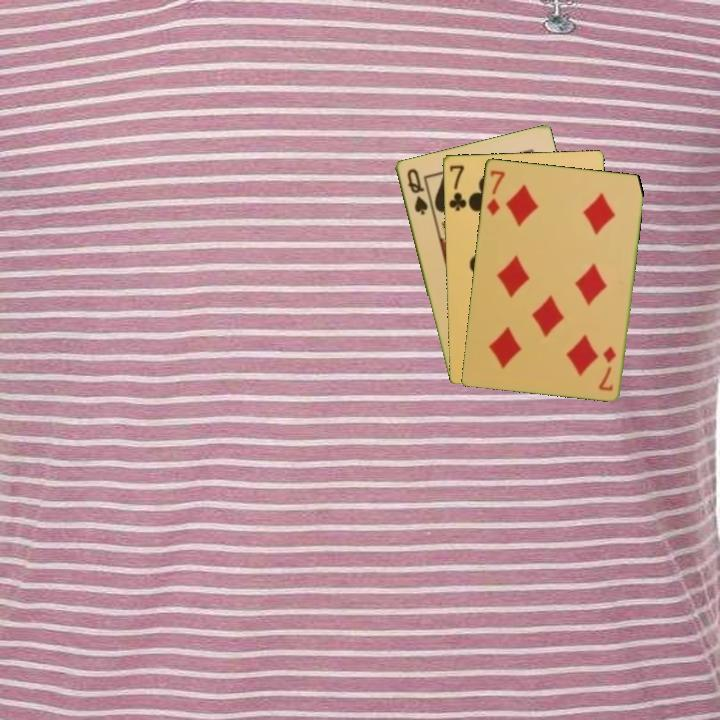7c: (445, 161, 469, 213)
7d: (483, 166, 508, 219), (596, 343, 619, 393)
Qs: (403, 164, 430, 218)
